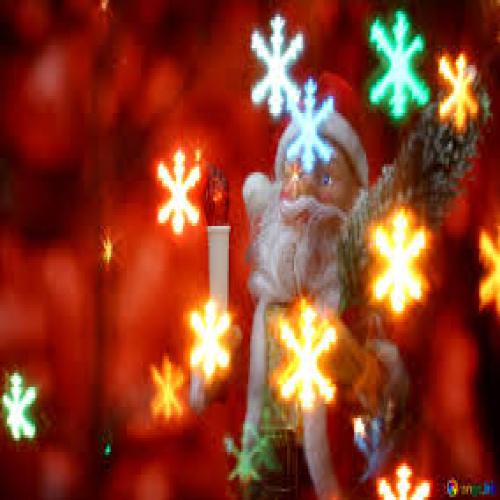Santa: (207, 72, 445, 500)
